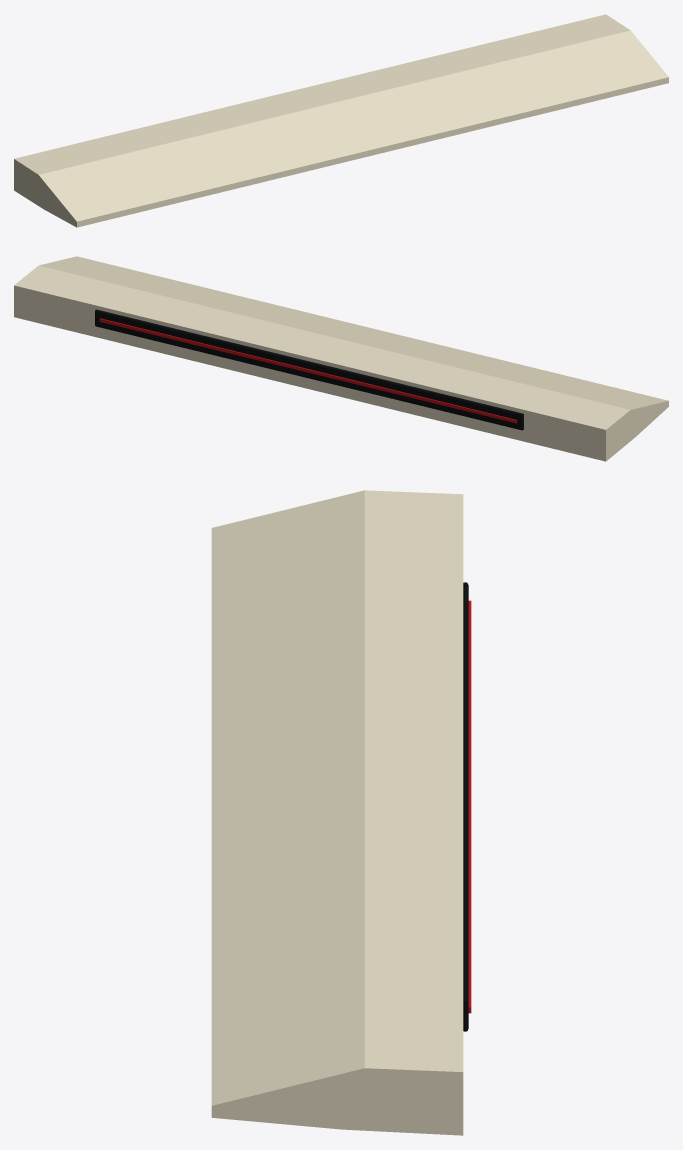
The model's file is spoiler_rowen.glb.
The picture shows the model from 3 angles, top to bottom: view 1: azimuth 30°, elevation 25°; view 2: azimuth 150°, elevation 25°; view 3: azimuth 270°, elevation 25°; orthographic projection. The views are drawn at different scales.
Visible parts, largest first — view 1: duck; view 2: duck, lens.013, stop; view 3: duck, lens.013, stop.
Boxes of the visible parts, x1,y1,x2,y2 form: duck: (14, 14, 668, 227); duck: (14, 256, 668, 461); lens.013: (95, 309, 523, 430); stop: (99, 318, 516, 423); duck: (211, 490, 463, 1135); lens.013: (463, 582, 468, 1031); stop: (468, 600, 471, 1013).
Bounding box in the file's own units: 1.25 × 0.068 × 0.2375.
